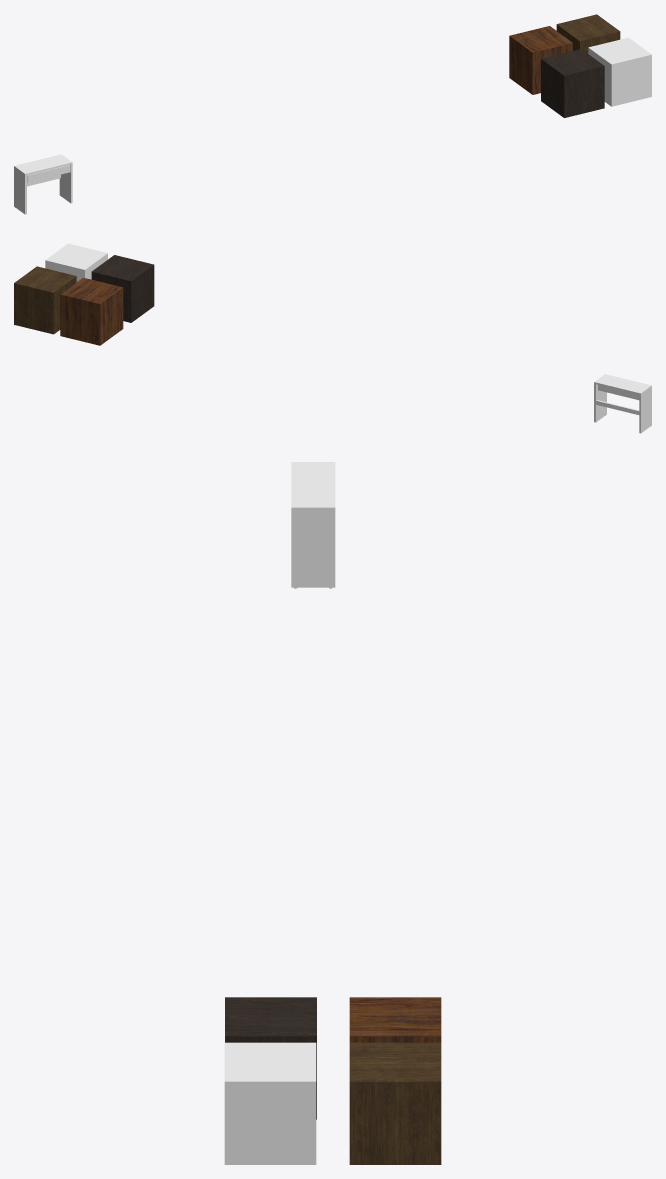
File: sen png.glb
3 views of the same model, one above another, from view 1: azimuth 30°, elevation 25°; view 2: azimuth 150°, elevation 25°; view 3: azimuth 270°, elevation 25° (orthographic). The views are drawn at different scales.
Parts seen in each view (by area): view 1: Cube.003, Cube.004, Cube, Cube.001, Box108, Box109, Box121, Cube.002; view 2: Cube, Cube.001, Cube.003, Cube.004, Box108, Box109, Box121; view 3: Cube.001, Cube.004, Cube.003, Cube, Box121, Box108.
Part boxes in pixels (<box>): Cube.003: <box>541,49,604,117</box>; Cube.004: <box>588,37,651,106</box>; Cube: <box>509,26,572,94</box>; Cube.001: <box>556,14,620,53</box>; Box108: <box>14,154,72,175</box>; Box109: <box>14,168,26,214</box>; Box121: <box>59,164,72,203</box>; Cube.002: <box>27,165,70,182</box>; Cube: <box>60,277,123,345</box>; Cube.001: <box>14,266,76,334</box>; Cube.003: <box>91,255,154,322</box>; Cube.004: <box>45,243,107,281</box>; Box108: <box>594,374,651,395</box>; Box109: <box>639,387,651,433</box>; Box121: <box>594,384,606,422</box>; Cube.001: <box>349,1042,441,1164</box>; Cube.004: <box>224,1042,316,1164</box>; Cube.003: <box>225,997,316,1119</box>; Cube: <box>349,997,441,1042</box>; Box121: <box>291,511,335,587</box>; Box108: <box>291,462,335,511</box>.
Bounding box in the file's own units: 12.34 × 1.15 × 1.93.
Materials: 9 (3 with a texture image).
